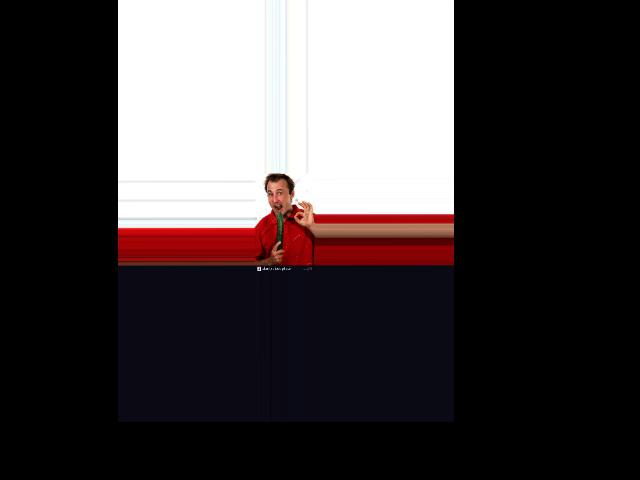cucumber: (277, 211, 283, 250)
